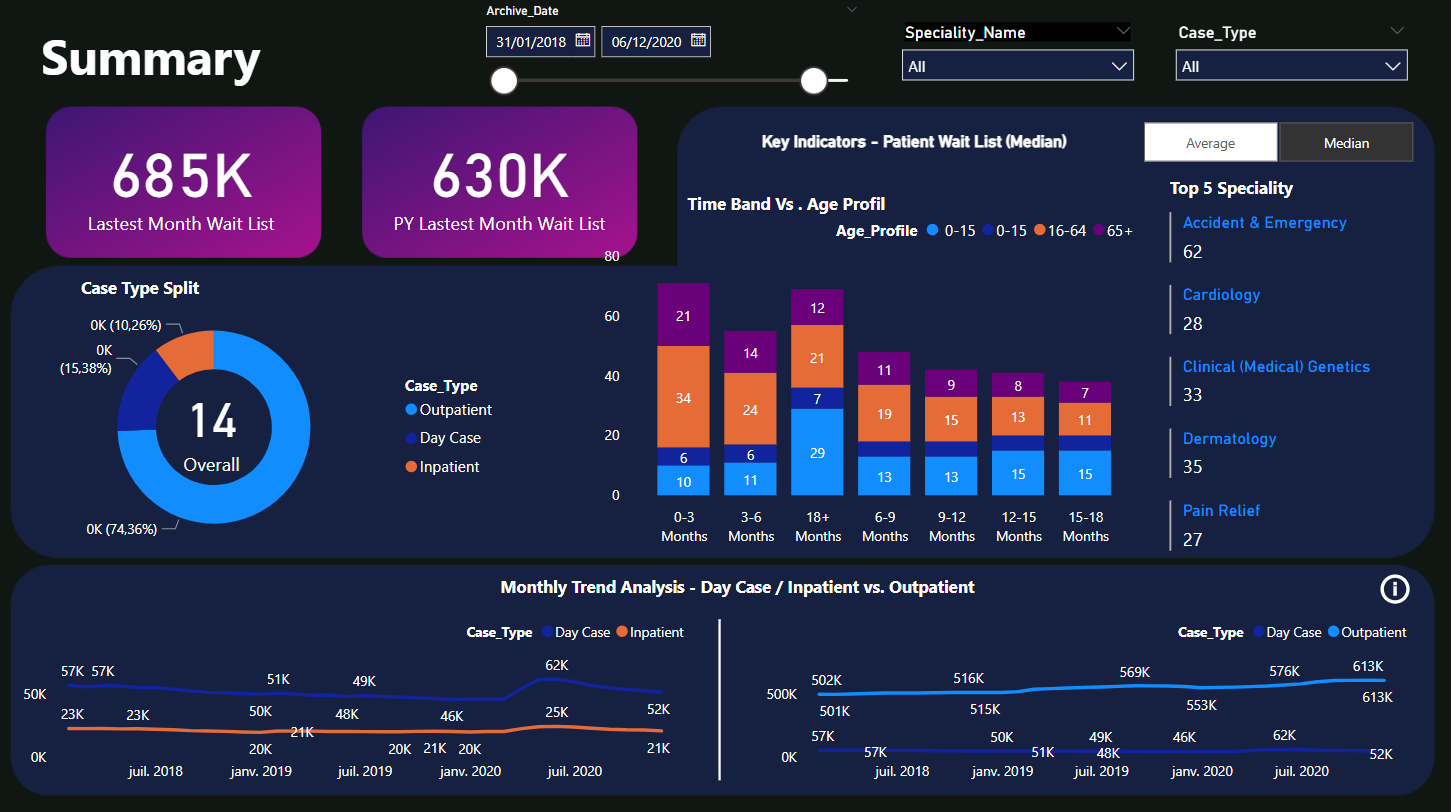

The dashboard page shown, as its layout file describes it:
{"tool":"powerbi","page":{"name":"Summary","canvas":[1280,720],"ordinal":0},"visuals":[{"type":"card","fields":{"Values":["All_Data.Lastest Month Wait List"]},"box":[48,96,224,128],"z":0},{"type":"slicer","fields":{"Values":["Calcul table.Calcul method"]},"box":[980.2,102.3,287.2,48.8],"z":1000},{"type":"card","fields":{"Values":["All_Data.PY Lastest Month Wait List"]},"box":[336,96,208,128],"z":2000},{"type":"donutChart","fields":{"Category":["All_Data.Case_Type"],"Y":["All_Data.Avg/Median"]},"box":[16.3,257,431.4,240.7],"z":3000},{"type":"columnChart","fields":{"Category":["All_Data.Time_Bands"],"Series":["All_Data.Age_Profile"],"Y":["All_Data.Avg/Median"]},"box":[527.9,183.7,480.2,304.7],"z":4000},{"type":"multiRowCard","fields":{"Values":["All_Data.Speciality_Name","All_Data.Avg/Median"]},"box":[1024.4,183.7,255.8,336],"z":5000},{"type":"slicer","fields":{"Values":["All_Data.Archive_Date"]},"box":[416,0,352,112],"z":6000},{"type":"slicer","fields":{"Values":["All_Data.Speciality_Name"]},"box":[784,16,224,64],"z":7000},{"type":"textbox","box":[32,16,240,80],"z":8000},{"type":"lineChart","fields":{"Category":["All_Data.Archive_Date"],"Y":["Sum(All_Data.Total)"],"Series":["All_Data.Case_Type"]},"box":[16.3,537.2,595.4,160.5],"z":9000},{"type":"lineChart","fields":{"Category":["All_Data.Archive_Date"],"Y":["Sum(All_Data.Total)"],"Series":["All_Data.Case_Type"]},"box":[669.8,537.2,577.9,160.5],"z":10000},{"type":"slicer","fields":{"Values":["All_Data.Case_Type"]},"box":[1024,16,224,64],"z":11000},{"type":"card","fields":{"Values":["All_Data.Avg/Median"]},"box":[141.9,322.1,90.7,111.6],"z":12000},{"type":"textbox","box":[600,166.3,223.3,34.9],"z":13000},{"type":"textbox","box":[425.6,502.3,447.7,34.9],"z":14000},{"type":"shape","box":[483.7,546.5,300,141.9],"z":15000},{"type":"textbox","box":[1024.4,151.2,223.3,34.9],"z":16000},{"type":"textbox","box":[67.4,239.5,223.3,34.9],"z":17000},{"type":"card","fields":{"Values":["All_Data.Dynamic Title"]},"box":[650,70.9,310.5,111.6],"z":18000},{"type":"actionButton","box":[1210.5,502.3,37.2,34.9],"z":19000}]}

Visuals, with their boxes in screenshot pixels (x1, y1, x2, y2), scaled from the page's 1280x720 canvas onto the 1451x812 screenshot:
card - All_Data.Lastest Month Wait List: 54, 108, 308, 253
slicer - Calcul table.Calcul method: 1111, 115, 1437, 170
card - All_Data.PY Lastest Month Wait List: 381, 108, 617, 253
donutChart - All_Data.Case_Type x All_Data.Avg/Median: 18, 290, 508, 561
columnChart - All_Data.Time_Bands x All_Data.Age_Profile: 598, 207, 1143, 551
multiRowCard - All_Data.Speciality_Name x All_Data.Avg/Median: 1161, 207, 1450, 586
slicer - All_Data.Archive_Date: 472, 0, 871, 126
slicer - All_Data.Speciality_Name: 889, 18, 1143, 90
textbox: 36, 18, 308, 108
lineChart - All_Data.Archive_Date x Sum(All_Data.Total): 18, 606, 693, 787
lineChart - All_Data.Archive_Date x Sum(All_Data.Total): 759, 606, 1414, 787
slicer - All_Data.Case_Type: 1161, 18, 1415, 90
card - All_Data.Avg/Median: 161, 363, 264, 489
textbox: 680, 188, 933, 227
textbox: 482, 566, 990, 606
shape: 548, 616, 888, 776
textbox: 1161, 171, 1414, 210
textbox: 76, 270, 330, 309
card - All_Data.Dynamic Title: 737, 80, 1089, 206
actionButton: 1372, 566, 1414, 606
